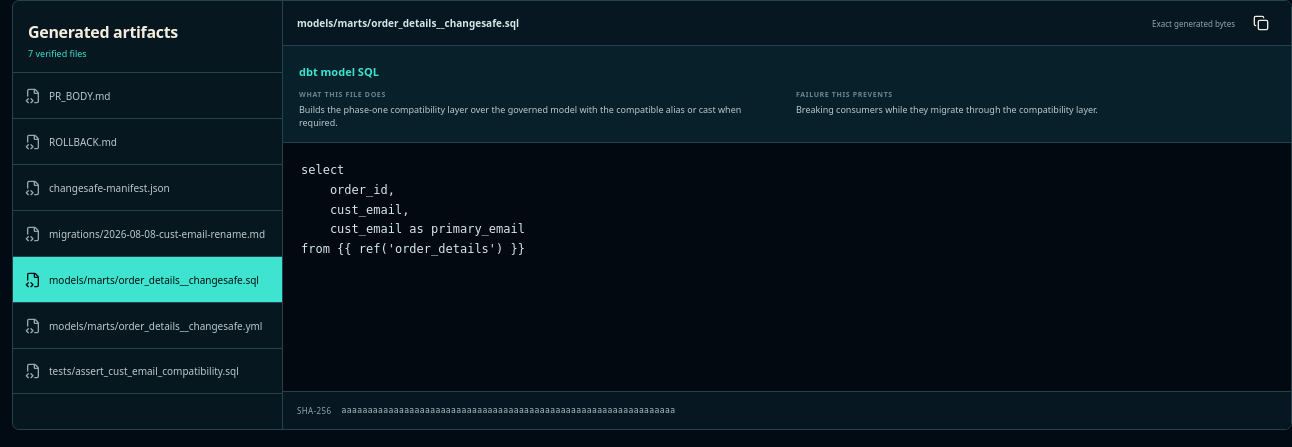
Scenario: ArtifactExplorer › explains each generated file without changing its exact source bytes
The width and height of the screenshot is (1292, 447).
Expected: the text "What this file does" is shown, [299,90,386,99]
Expected: the text "Failure this prevents" is shown, [796,90,893,99]
Click the button "tests/assert_cust_email_compatibility.sql".
click(148, 371)  # box [13,348,282,394]
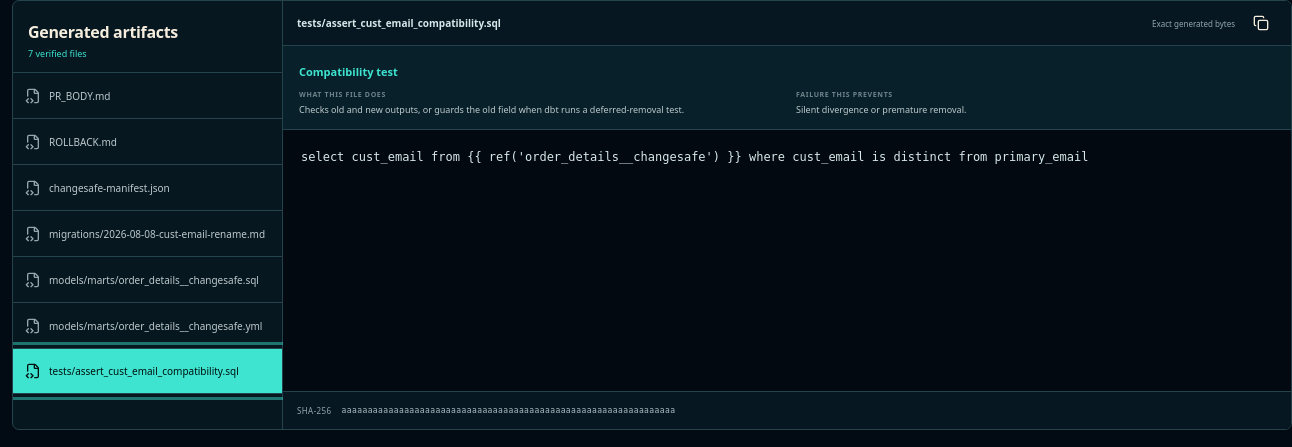
Expected: the text "Compatibility test" is shown, [299,64,398,79]
Expected: the text "Silent divergence or premature removal." is shown, [796,103,966,116]
Expected: the text "from {{ ref('order_details__changesafe') }}" is shown, [301,150,1088,164]
